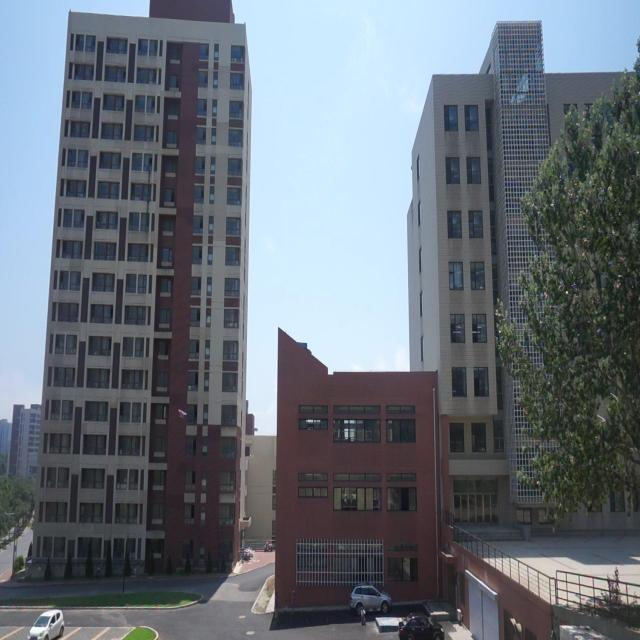drone: (174, 404, 190, 424)
